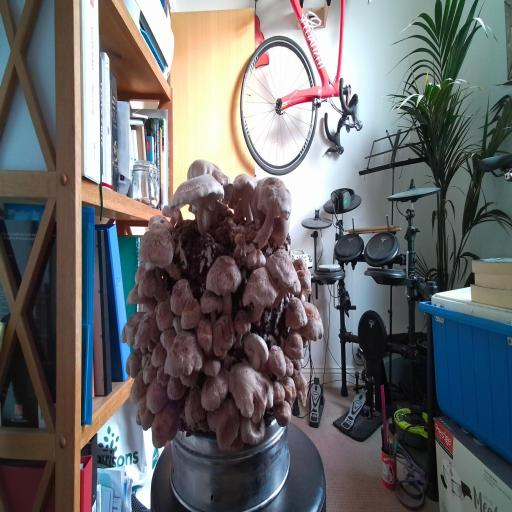Shiitake Mushroom: (228, 164, 311, 250), (161, 149, 233, 243), (209, 356, 293, 432), (226, 257, 293, 328), (126, 220, 196, 281), (198, 243, 249, 319), (136, 394, 197, 455), (178, 151, 243, 202), (263, 241, 304, 309), (232, 322, 280, 378), (204, 394, 246, 456), (132, 371, 180, 422), (190, 276, 236, 329), (161, 326, 204, 381), (158, 271, 202, 321), (220, 303, 261, 350), (196, 365, 234, 415), (131, 264, 177, 305), (171, 292, 210, 340), (229, 170, 260, 224), (283, 365, 319, 408), (117, 300, 147, 351), (119, 368, 156, 409), (127, 394, 160, 437), (130, 308, 162, 352), (179, 383, 209, 429), (290, 250, 318, 299), (118, 344, 150, 382), (298, 300, 326, 343), (134, 355, 164, 391), (265, 342, 290, 381), (212, 314, 234, 357), (152, 296, 177, 333), (269, 207, 291, 249), (250, 171, 269, 218), (147, 338, 171, 374), (239, 414, 266, 446), (155, 320, 181, 353), (241, 245, 271, 272), (279, 371, 300, 408), (150, 362, 176, 391), (271, 399, 294, 430), (286, 297, 308, 329), (195, 318, 213, 354), (283, 330, 303, 359), (166, 376, 187, 402), (147, 213, 174, 233), (131, 259, 150, 287), (162, 206, 183, 226), (203, 357, 221, 377), (126, 283, 143, 304), (233, 233, 247, 258), (273, 381, 285, 404), (284, 355, 295, 377), (292, 358, 304, 371)
